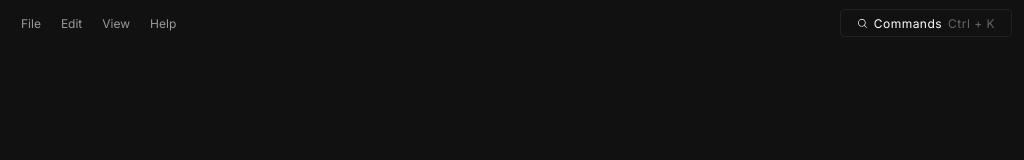
Test: context-aware application masthead › keeps setup identity-free, and signing out belongs to the dashboard (#193)
Click the menu item "File": (31, 23) [12,9,50,37]
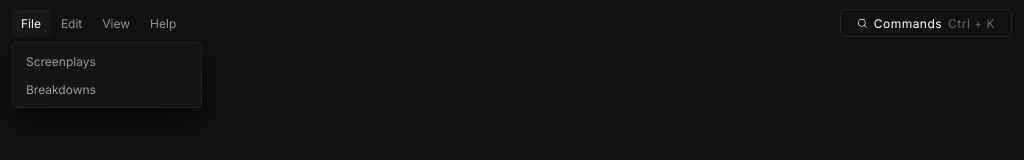
Expected: the menu item "Screenplays" is shown, [17,47,197,75]
